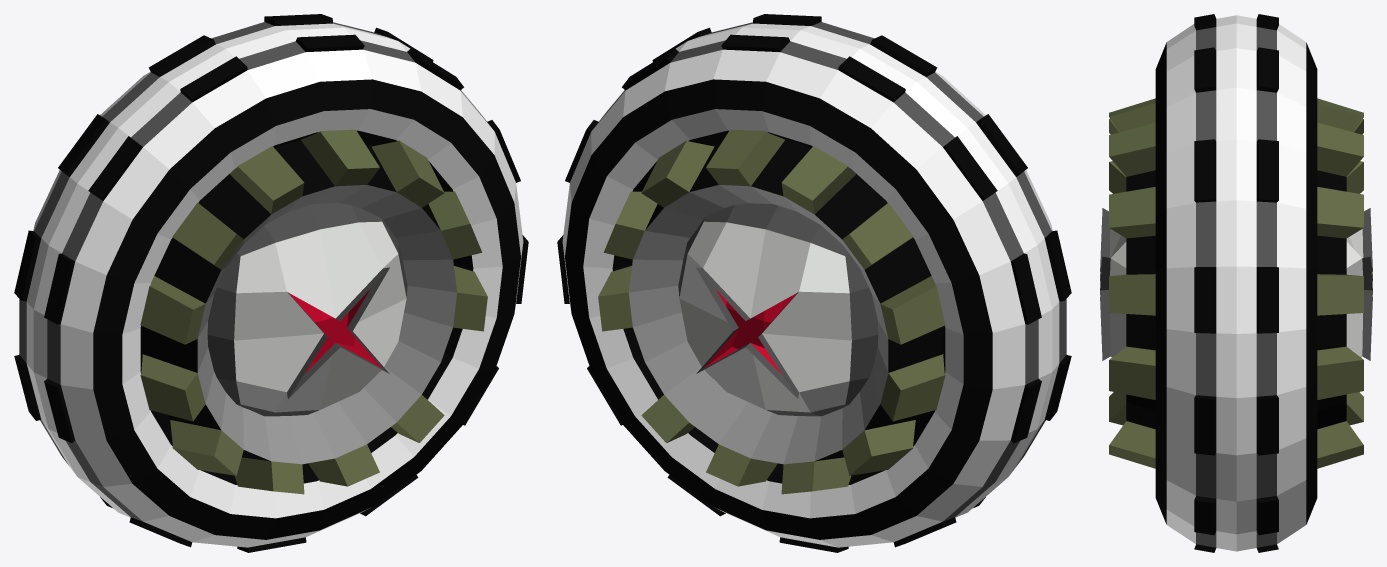
Rendered from Wheel.fbx.
3 views of the same model, side by side, from view 1: azimuth 30°, elevation 25°; view 2: azimuth 150°, elevation 25°; view 3: azimuth 270°, elevation 25° (orthographic). The views are drawn at different scales.
Parts seen in each view (by area): view 1: Torus, Cube; view 2: Torus, Cube; view 3: Torus, Cube.
Boxes of the visible parts, bbox=[...] form: Torus: bbox=[14, 14, 528, 552]; Cube: bbox=[207, 203, 407, 416]; Torus: bbox=[557, 14, 1071, 552]; Cube: bbox=[678, 203, 878, 416]; Torus: bbox=[1109, 14, 1363, 552]; Cube: bbox=[1100, 208, 1372, 360].
Bounding box in the file's own units: 250 × 251 × 127.
